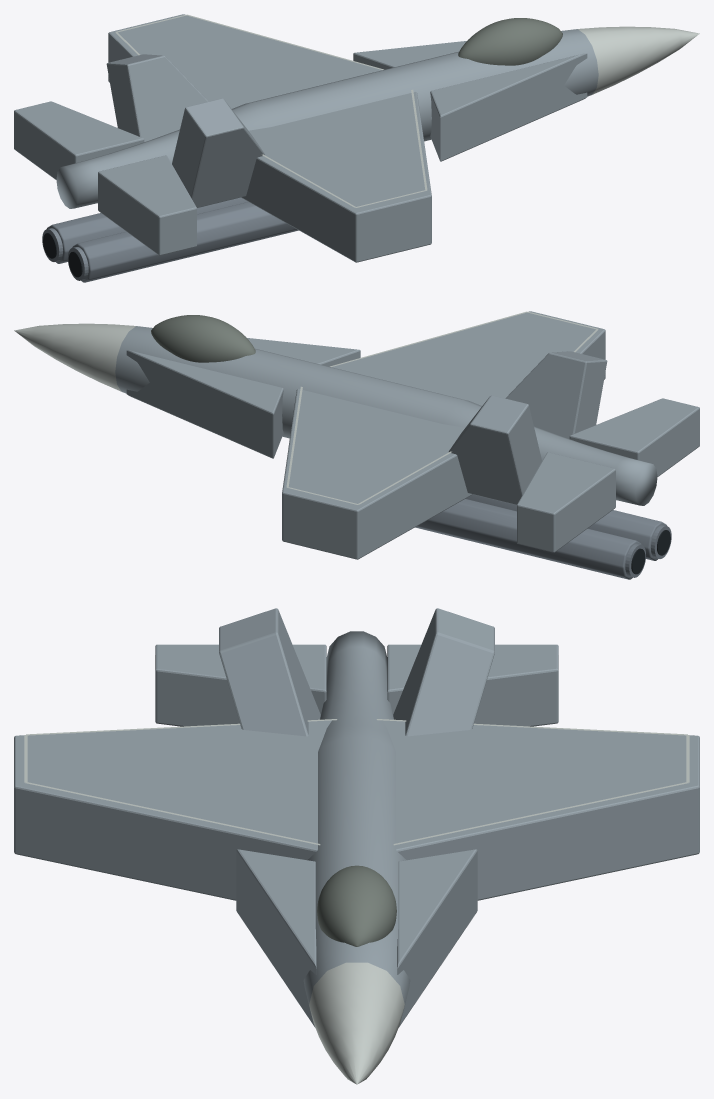
Rendered from deu_uas_skeldar.glb.
The picture shows the model from 3 angles, top to bottom: view 1: azimuth 30°, elevation 25°; view 2: azimuth 150°, elevation 25°; view 3: azimuth 270°, elevation 25°; orthographic projection. The views are drawn at different scales.
Visible parts, largest first — view 1: deu_uas_skeldar; view 2: deu_uas_skeldar; view 3: deu_uas_skeldar.
Part boxes in pixels (bbox=[...]): deu_uas_skeldar: bbox=[14, 14, 699, 282]; deu_uas_skeldar: bbox=[14, 311, 699, 579]; deu_uas_skeldar: bbox=[14, 608, 699, 1084].
Bounding box in the file's own units: 10 × 2.46 × 6.75.
